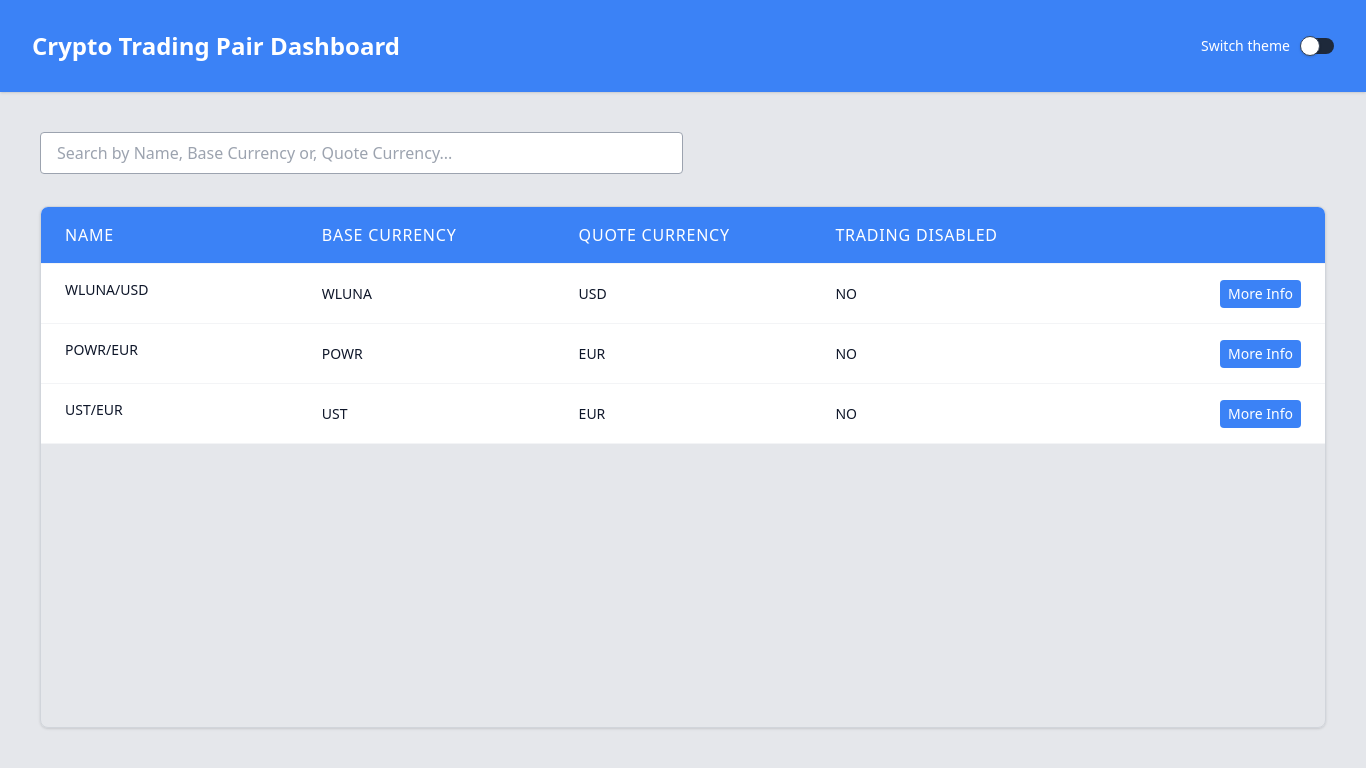
Test: Test Crypto Trading Pair Dashboard › As a user I want to be able to search for a crypto pair
The width and height of the screenshot is (1366, 768).
In the field with placeholder "Search by Name, Base Currency or, Quote Currency...": (362, 153) [40,132,683,174], type "POWR/EUR"
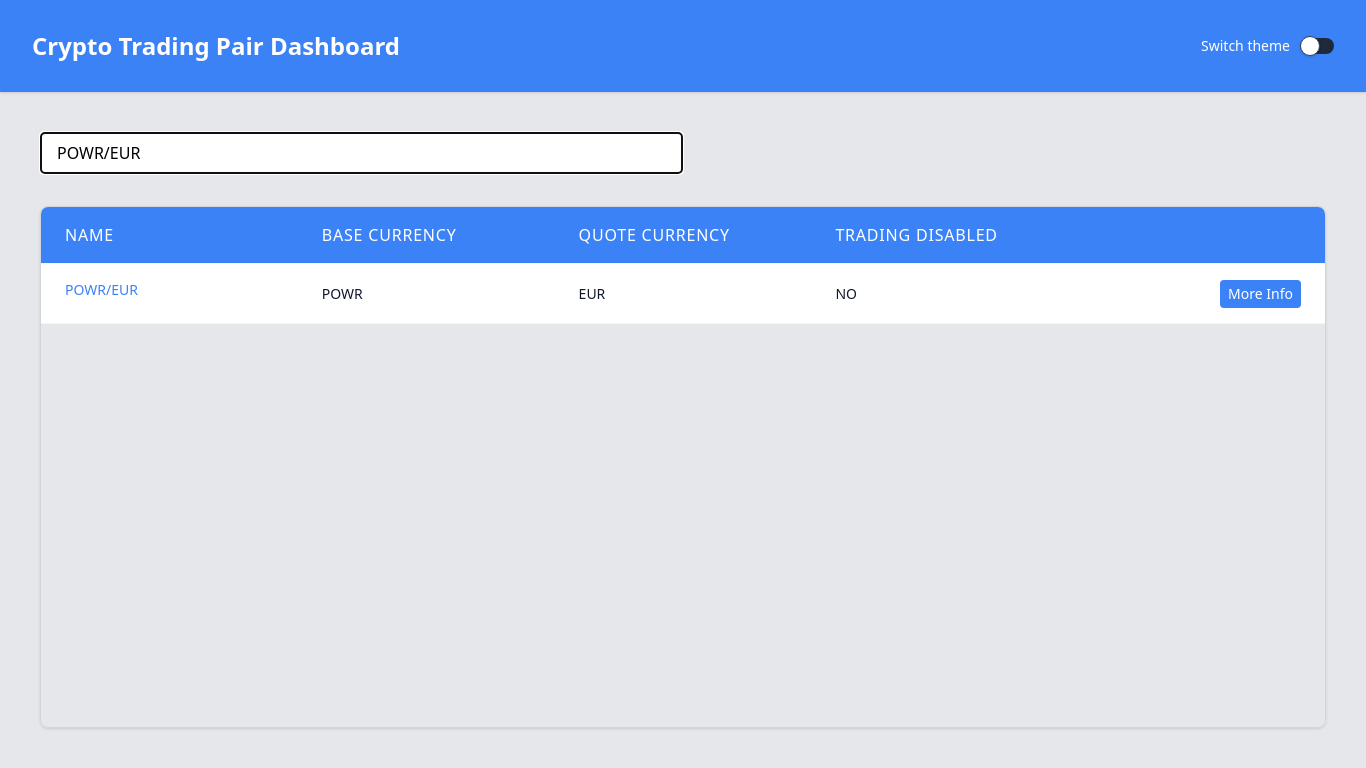
Check: the text "POWR/EUR" is shown, box [65,280,138,299]
Check: the text "UST/EUR" is gone
